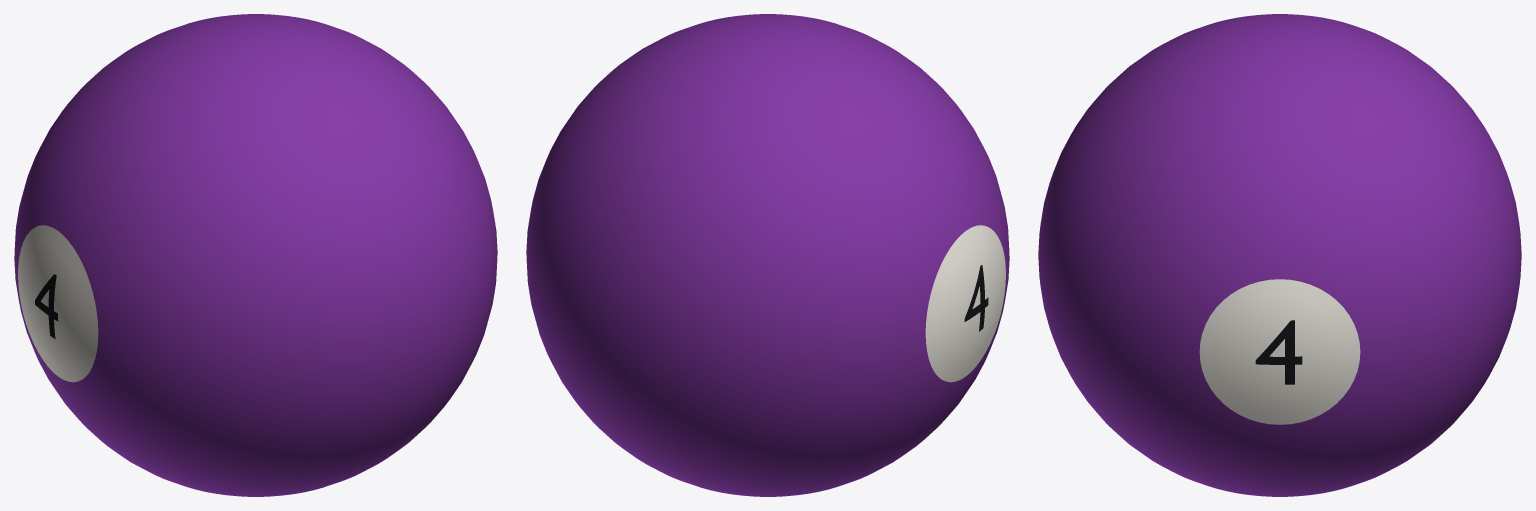
Rendered from ball_04.glb.
3 renders of one model, left to right at view 1: azimuth 30°, elevation 25°; view 2: azimuth 150°, elevation 25°; view 3: azimuth 270°, elevation 25°, orthographic.
Parts seen in each view (by area): view 1: Ball 04 | resin, Ball 04 | number medallion | opposite, Ball 04 | numeral 4 | opposite; view 2: Ball 04 | resin, Ball 04 | number medallion | opposite, Ball 04 | numeral 4 | opposite; view 3: Ball 04 | resin, Ball 04 | number medallion, Ball 04 | numeral 4.
Part boxes in pixels (box(x1,y1,x2,y2)): Ball 04 | resin: box(14, 14, 497, 496); Ball 04 | number medallion | opposite: box(18, 225, 98, 382); Ball 04 | numeral 4 | opposite: box(35, 274, 58, 338); Ball 04 | resin: box(526, 14, 1009, 496); Ball 04 | number medallion | opposite: box(925, 225, 1005, 382); Ball 04 | numeral 4 | opposite: box(964, 265, 988, 331); Ball 04 | resin: box(1038, 14, 1521, 496); Ball 04 | number medallion: box(1199, 279, 1360, 424); Ball 04 | numeral 4: box(1255, 320, 1302, 384).
Bounding box in the file's own units: 0.0573 × 0.0571 × 0.0571.
